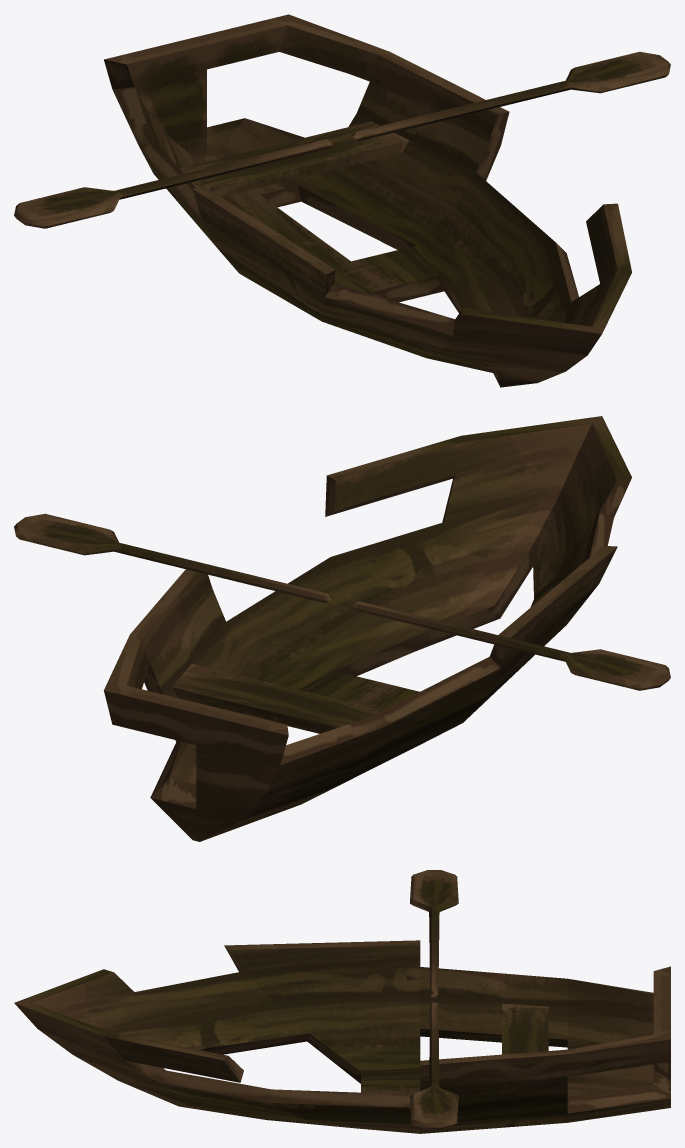
Rendered from BrokenRowBoat_Geo.fbx.
3 views of the same model, one above another, from view 1: azimuth 30°, elevation 25°; view 2: azimuth 150°, elevation 25°; view 3: azimuth 270°, elevation 25° (orthographic). The views are drawn at different scales.
Visible parts, largest first — view 1: BrokenRowBoat_Geo, Paddle01_Geo, Paddle02_Geo; view 2: BrokenRowBoat_Geo, Paddle01_Geo, Paddle02_Geo; view 3: BrokenRowBoat_Geo, Paddle01_Geo, Paddle02_Geo.
Boxes of the visible parts, left/top/right/bottom form: BrokenRowBoat_Geo: left=104, top=14, right=631, bottom=387; Paddle01_Geo: left=352, top=51, right=670, bottom=141; Paddle02_Geo: left=14, top=139, right=332, bottom=228; BrokenRowBoat_Geo: left=103, top=416, right=631, bottom=841; Paddle01_Geo: left=14, top=513, right=332, bottom=603; Paddle02_Geo: left=352, top=601, right=670, bottom=690; BrokenRowBoat_Geo: left=14, top=940, right=670, bottom=1133; Paddle01_Geo: left=409, top=1002, right=458, bottom=1129; Paddle02_Geo: left=410, top=870, right=458, bottom=997.
Bounding box in the file's own units: 265 × 53.35 × 287.
